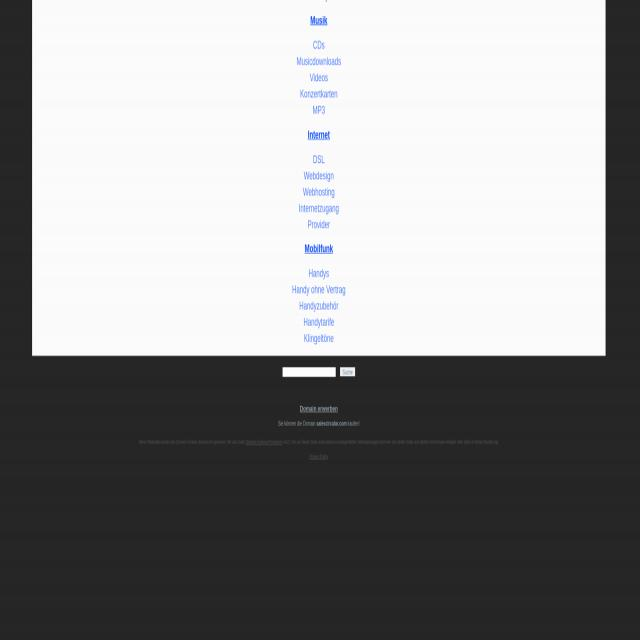button: (340, 367, 355, 377)
field: (282, 368, 336, 378)
